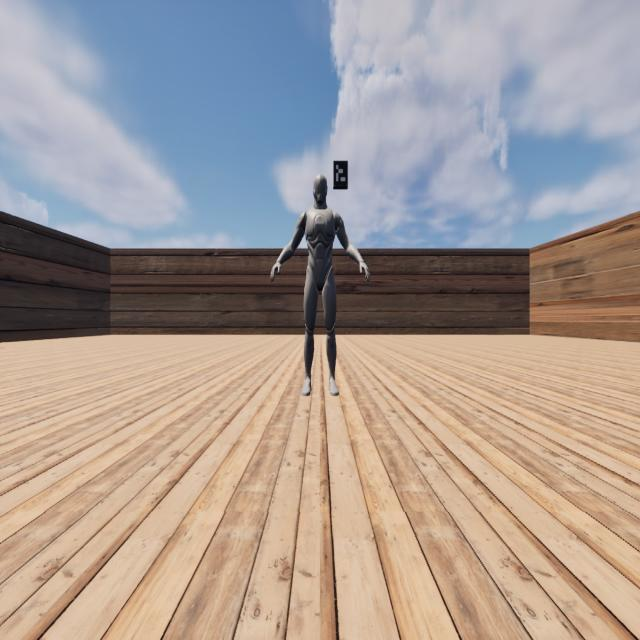aruco: (334, 161, 348, 186)
hip: (306, 266, 334, 275)
